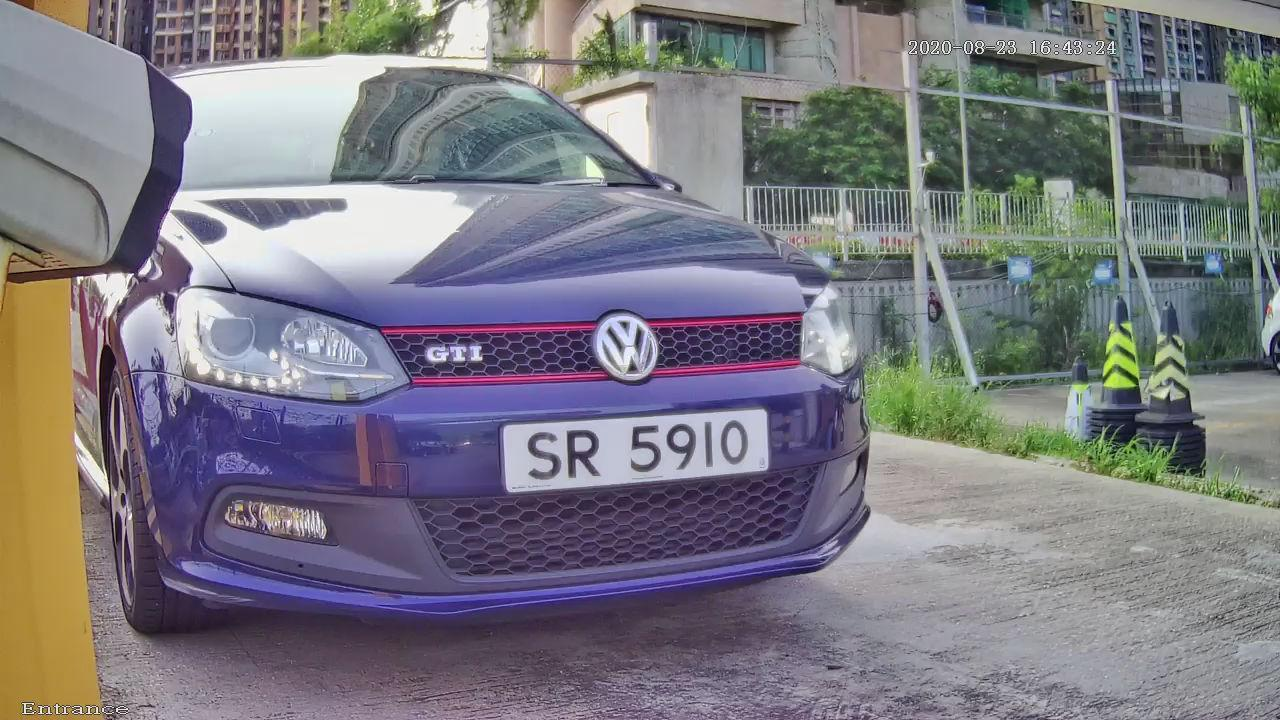Car: (52, 7, 938, 666)
License Plate: (463, 370, 809, 537)
